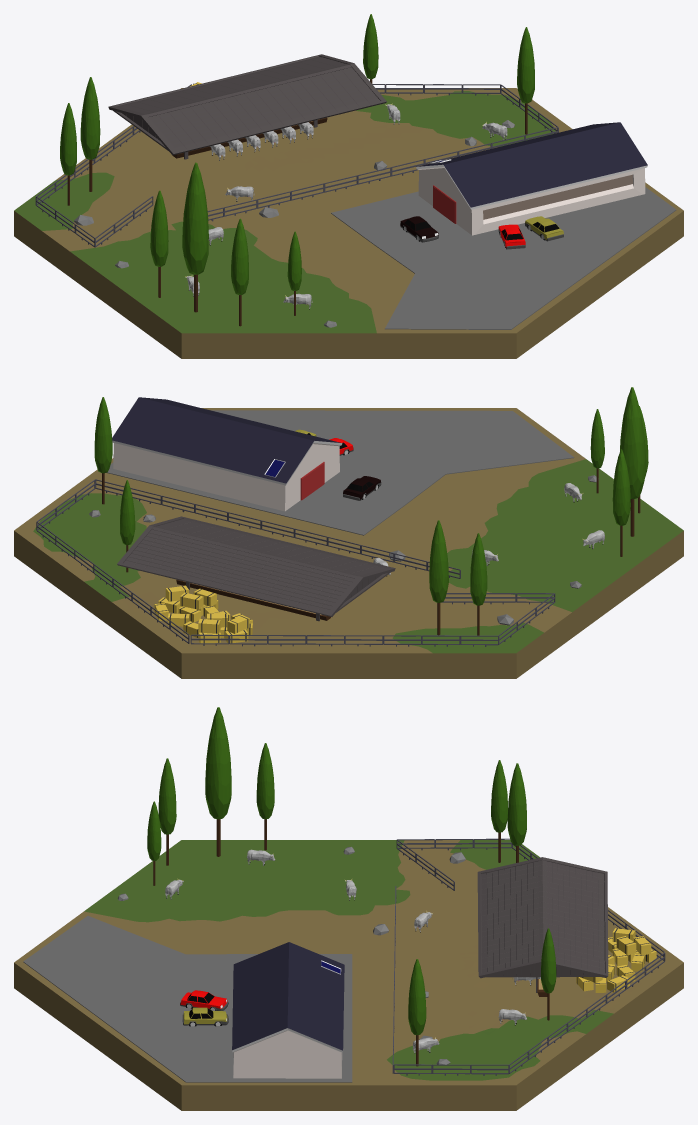
The model's file is Meat_Production 1.fbx.
3 views of the same model, one above another, from view 1: azimuth 30°, elevation 25°; view 2: azimuth 150°, elevation 25°; view 3: azimuth 270°, elevation 25° (orthographic).
Parts seen in each view (by area): view 1: Sphere; view 2: Sphere; view 3: Sphere.
Boxes of the visible parts, x1,y1,x2,y2 form: Sphere: [14, 14, 683, 358]; Sphere: [14, 387, 683, 678]; Sphere: [14, 707, 683, 1110].
Size of the model in its own units: 100 by 33.27 by 116.
